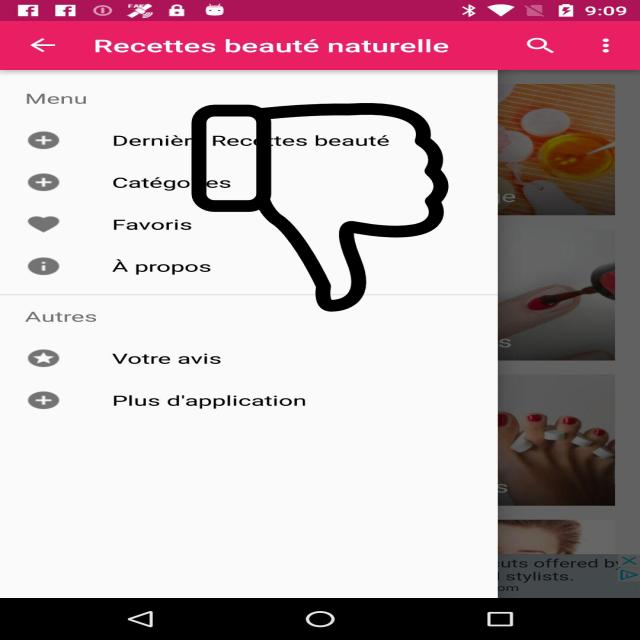obstruction: (188, 103, 452, 312)
